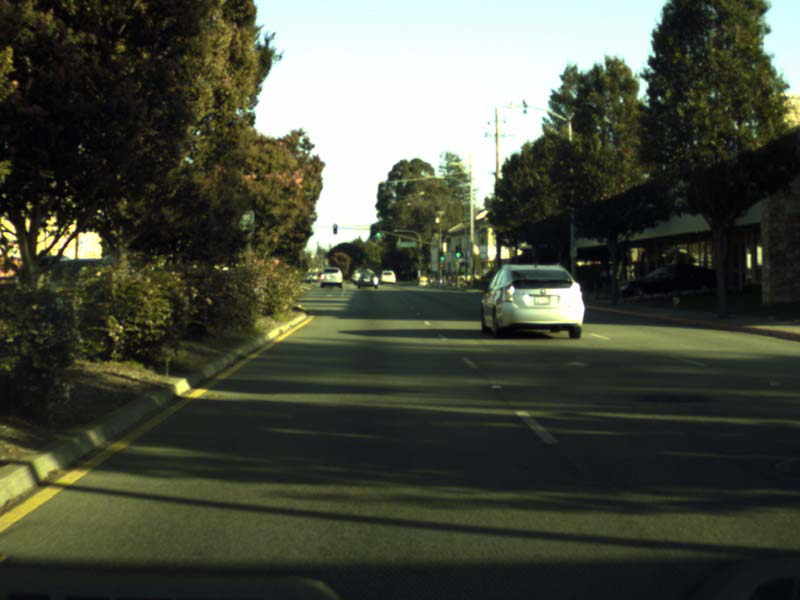Green: (454, 246, 462, 258), (375, 226, 380, 237), (440, 252, 444, 261)
Red: (332, 224, 337, 233)
